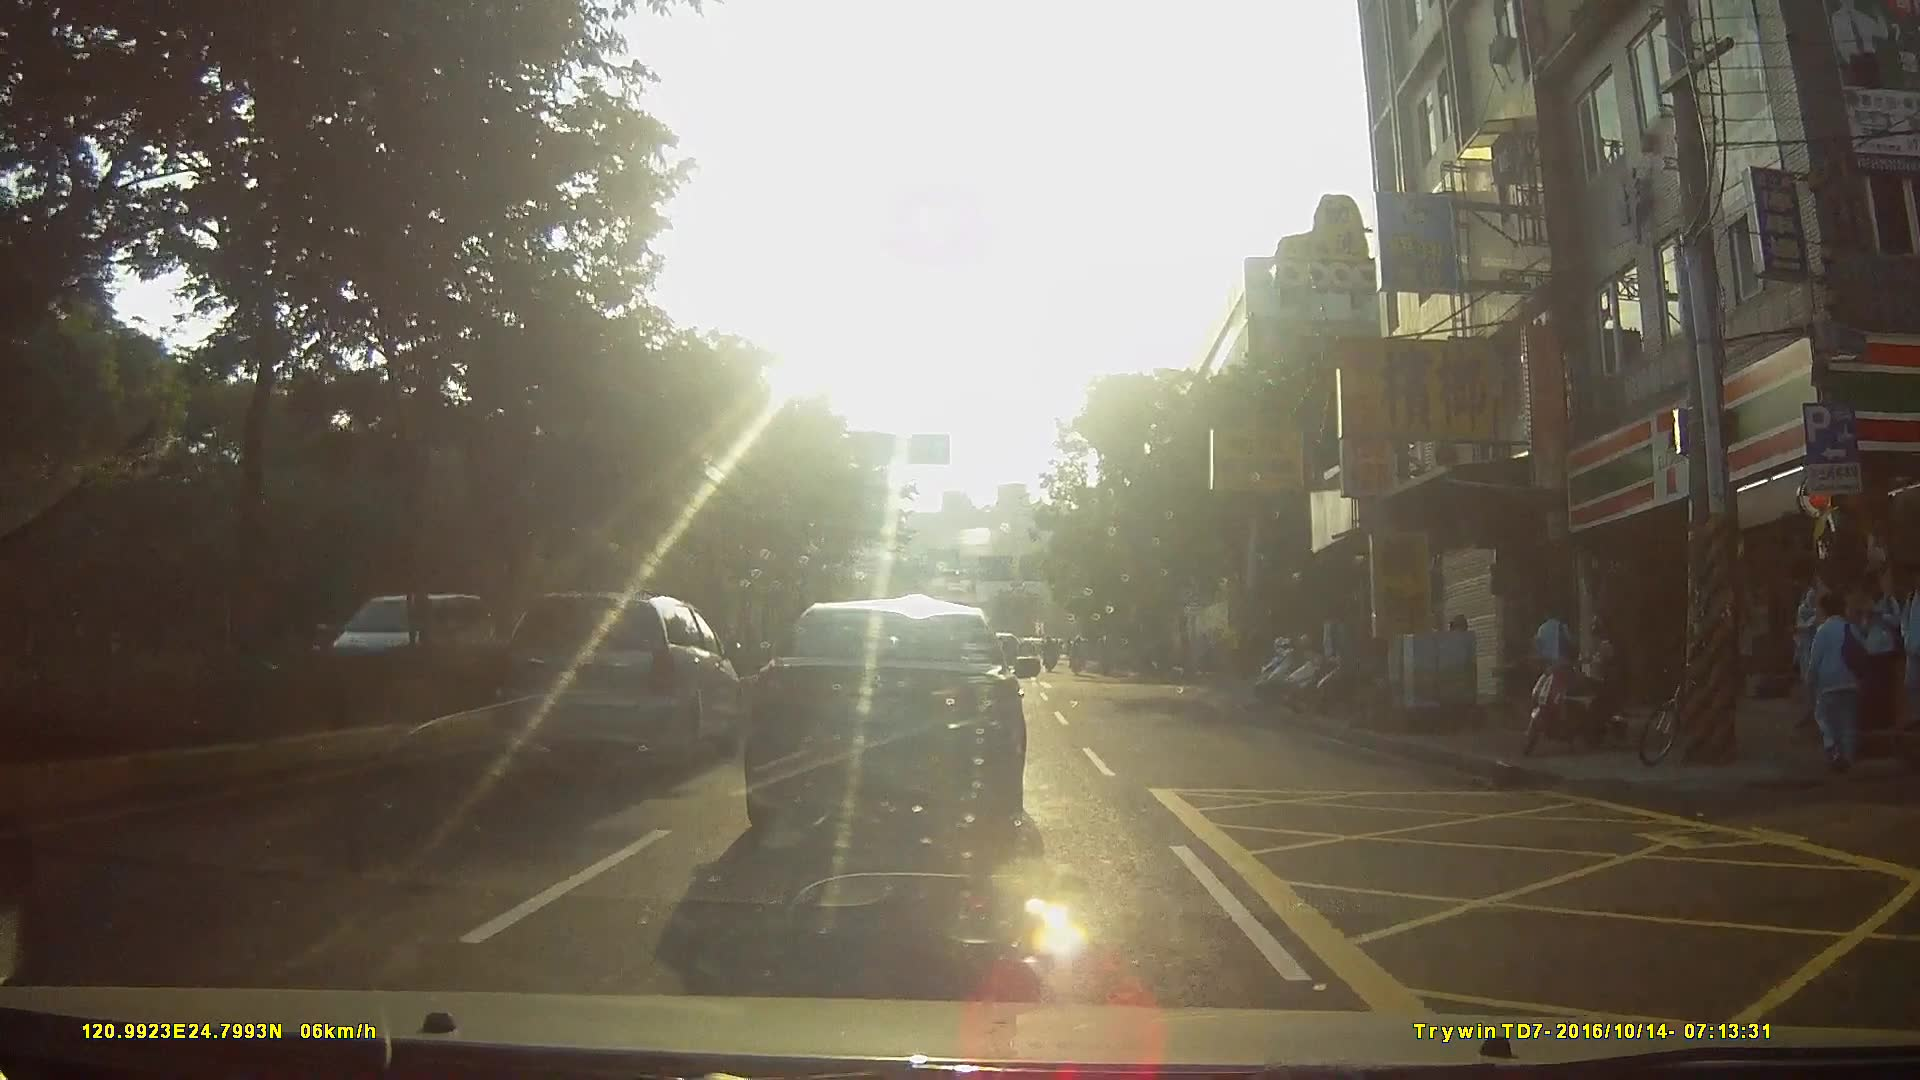pedestrian: (1811, 595, 1883, 779), (1577, 617, 1628, 753), (1529, 603, 1585, 720), (1892, 563, 1920, 732)
vehicle: (741, 600, 1045, 852), (489, 588, 756, 770), (331, 590, 527, 696)
